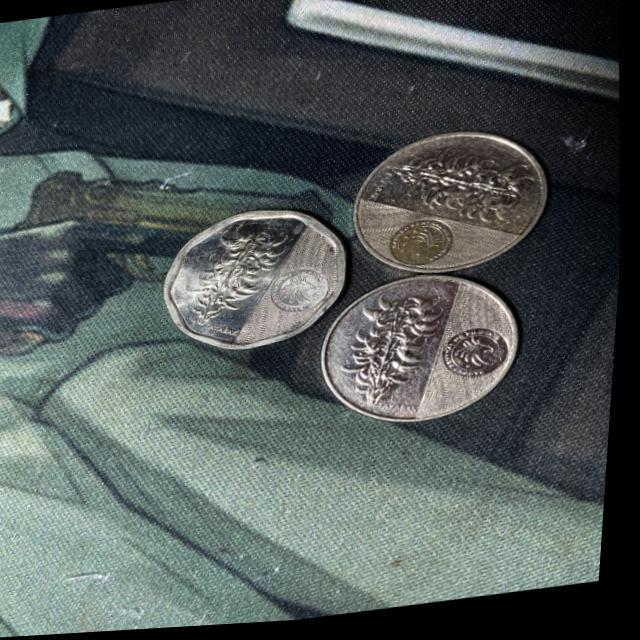5_New_Back: (383, 143, 552, 256), (343, 303, 449, 408), (193, 219, 295, 315)
